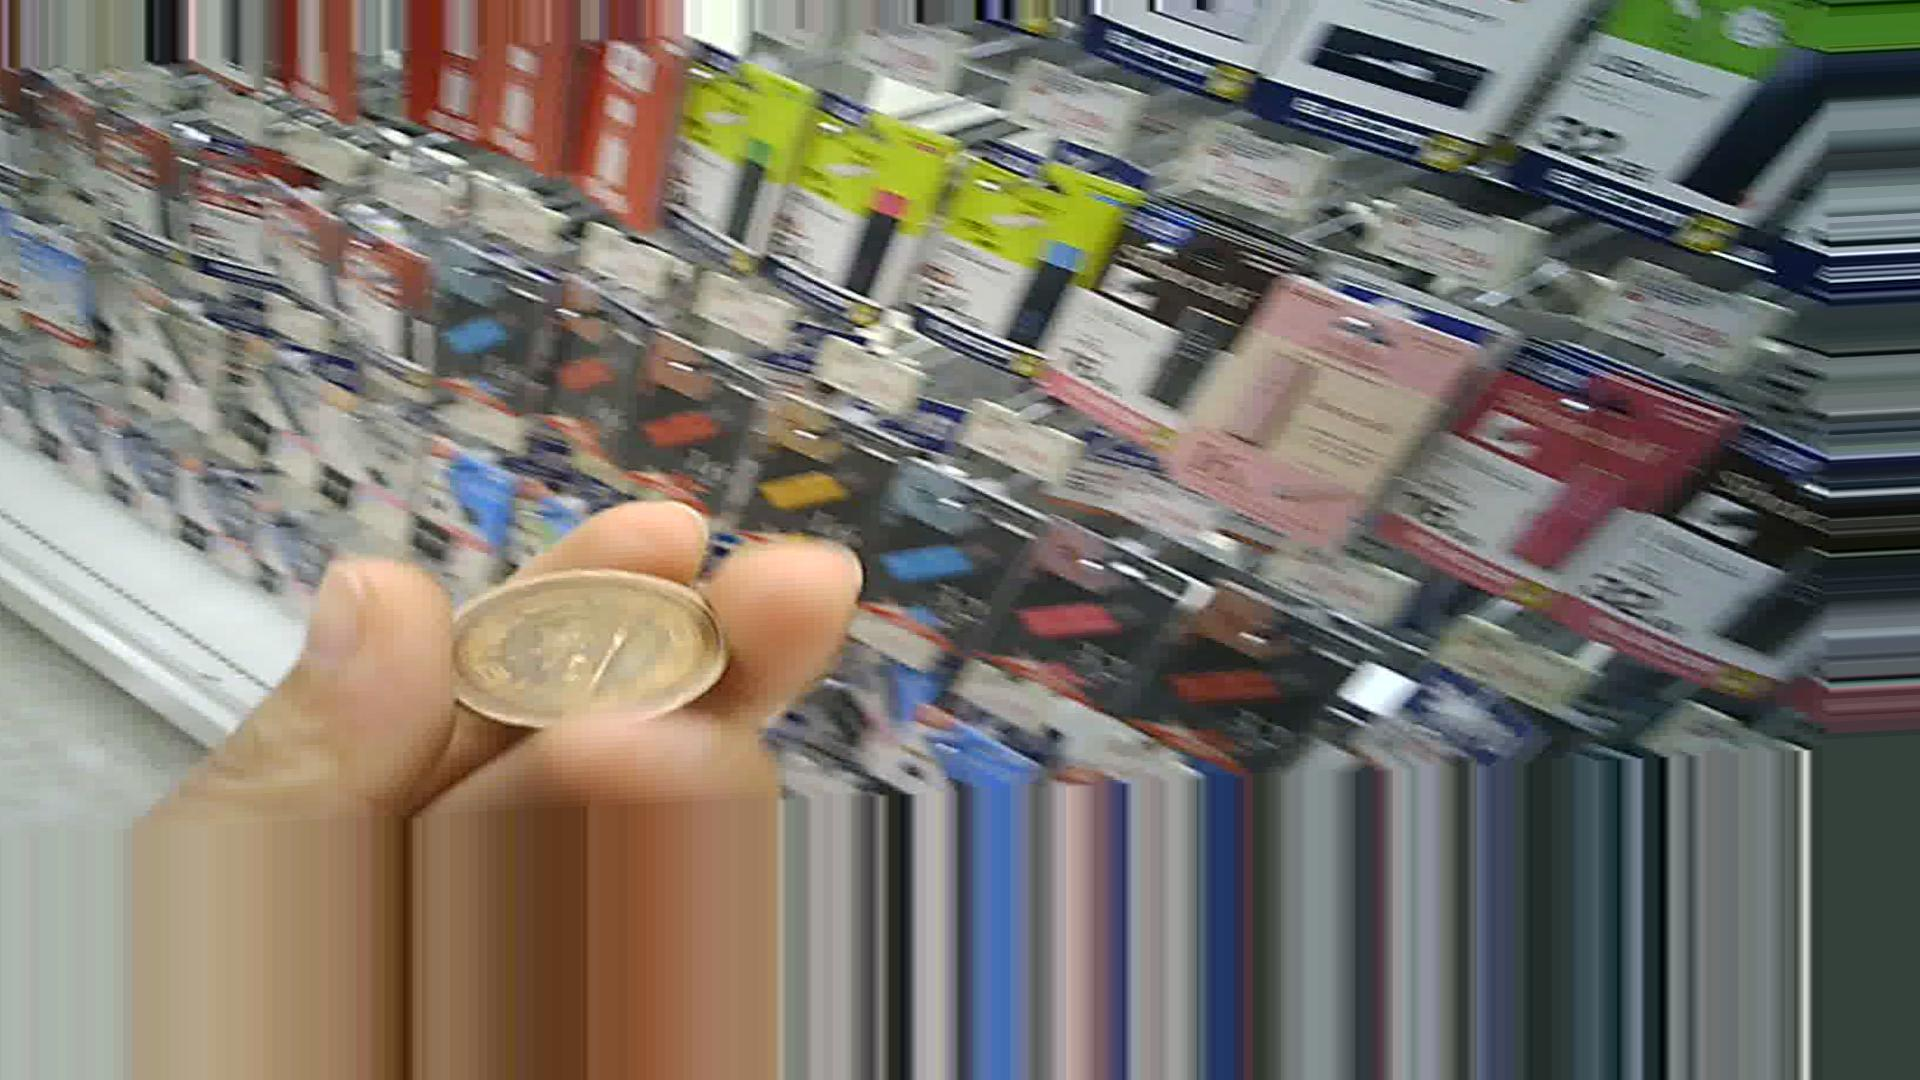10 Yen: (415, 542, 746, 725)
